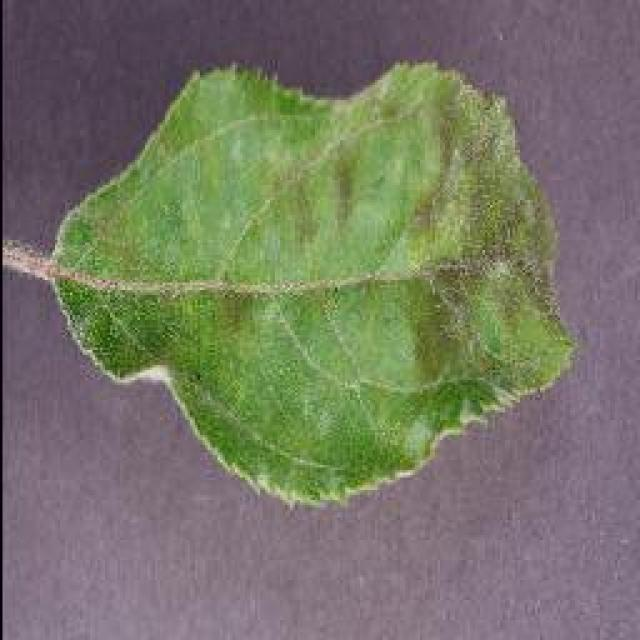apple scab disease: (10, 55, 578, 510)
